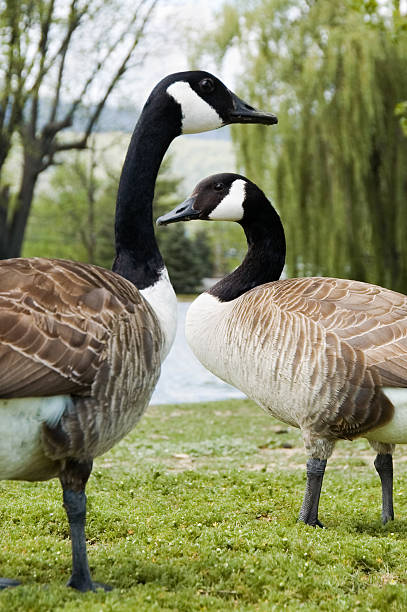goose: (1, 66, 282, 597), (152, 170, 407, 532)
